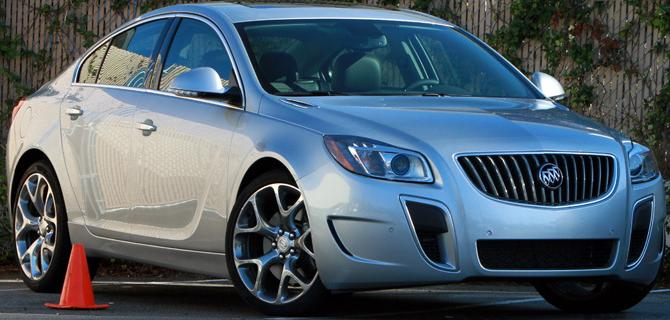front_view: (320, 125, 669, 293)
headlight: (322, 121, 435, 190)
side_glass: (71, 9, 249, 112)
